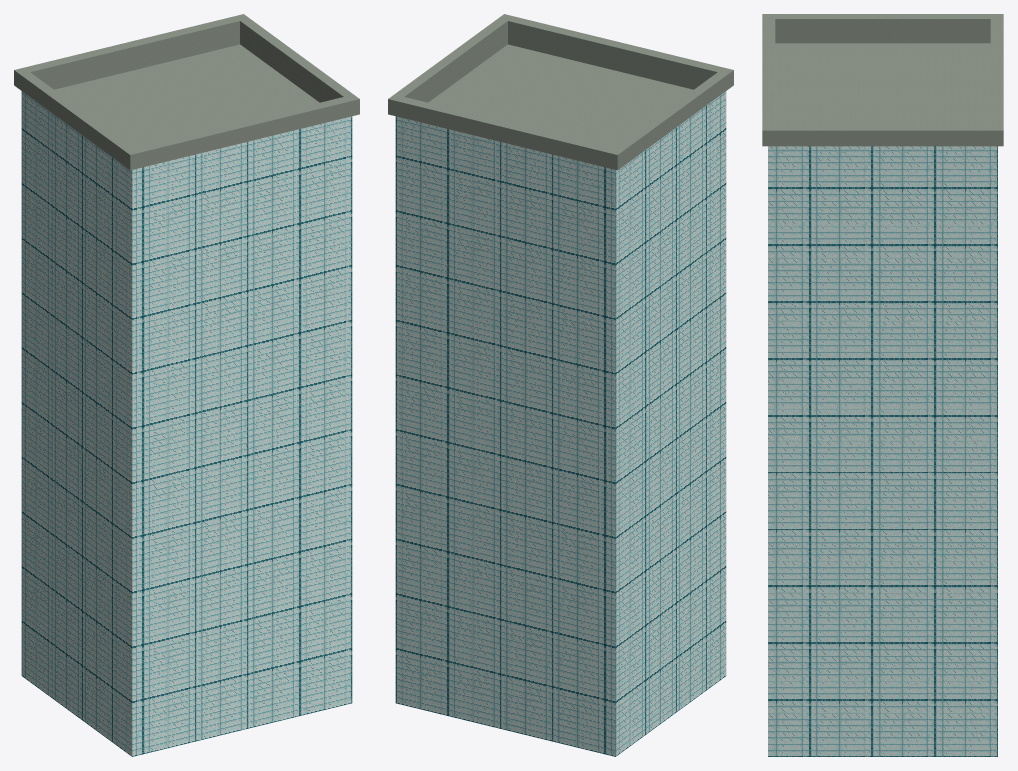
The model's file is BLOCKYGON_BUILDING.fbx.
The picture shows the model from 3 angles, left to right: view 1: azimuth 30°, elevation 25°; view 2: azimuth 150°, elevation 25°; view 3: azimuth 270°, elevation 25°; orthographic projection. The views are drawn at different scales.
Visible parts, largest first — view 1: BLOCKYGON_BUILDING; view 2: BLOCKYGON_BUILDING; view 3: BLOCKYGON_BUILDING.
Part boxes in pixels (left/top/right/bottom): BLOCKYGON_BUILDING: left=14, top=14, right=359, bottom=756; BLOCKYGON_BUILDING: left=388, top=14, right=733, bottom=756; BLOCKYGON_BUILDING: left=762, top=14, right=1003, bottom=756.
Size of the model in its own units: 3514 by 8846 by 3079.
3 materials, 3 textured.
